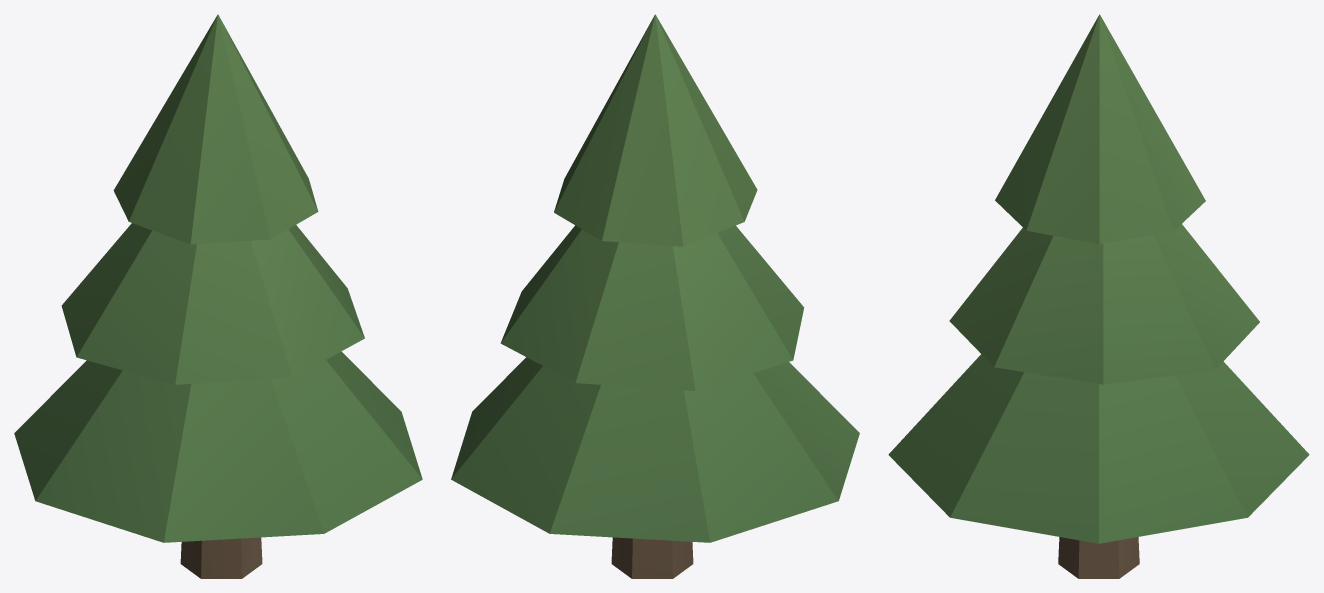
Rendered from tree_conifer.glb.
3 views of the same model, side by side, from view 1: azimuth 30°, elevation 25°; view 2: azimuth 150°, elevation 25°; view 3: azimuth 270°, elevation 25° (orthographic).
Visible parts, largest first — view 1: Tree_Conifer_Master; view 2: Tree_Conifer_Master; view 3: Tree_Conifer_Master.
Part boxes in pixels (<box>): Tree_Conifer_Master: <box>14,14,422,578</box>; Tree_Conifer_Master: <box>451,14,859,578</box>; Tree_Conifer_Master: <box>888,14,1309,578</box>.
Size of the model in its own units: 1.24 by 1.78 by 1.24.
